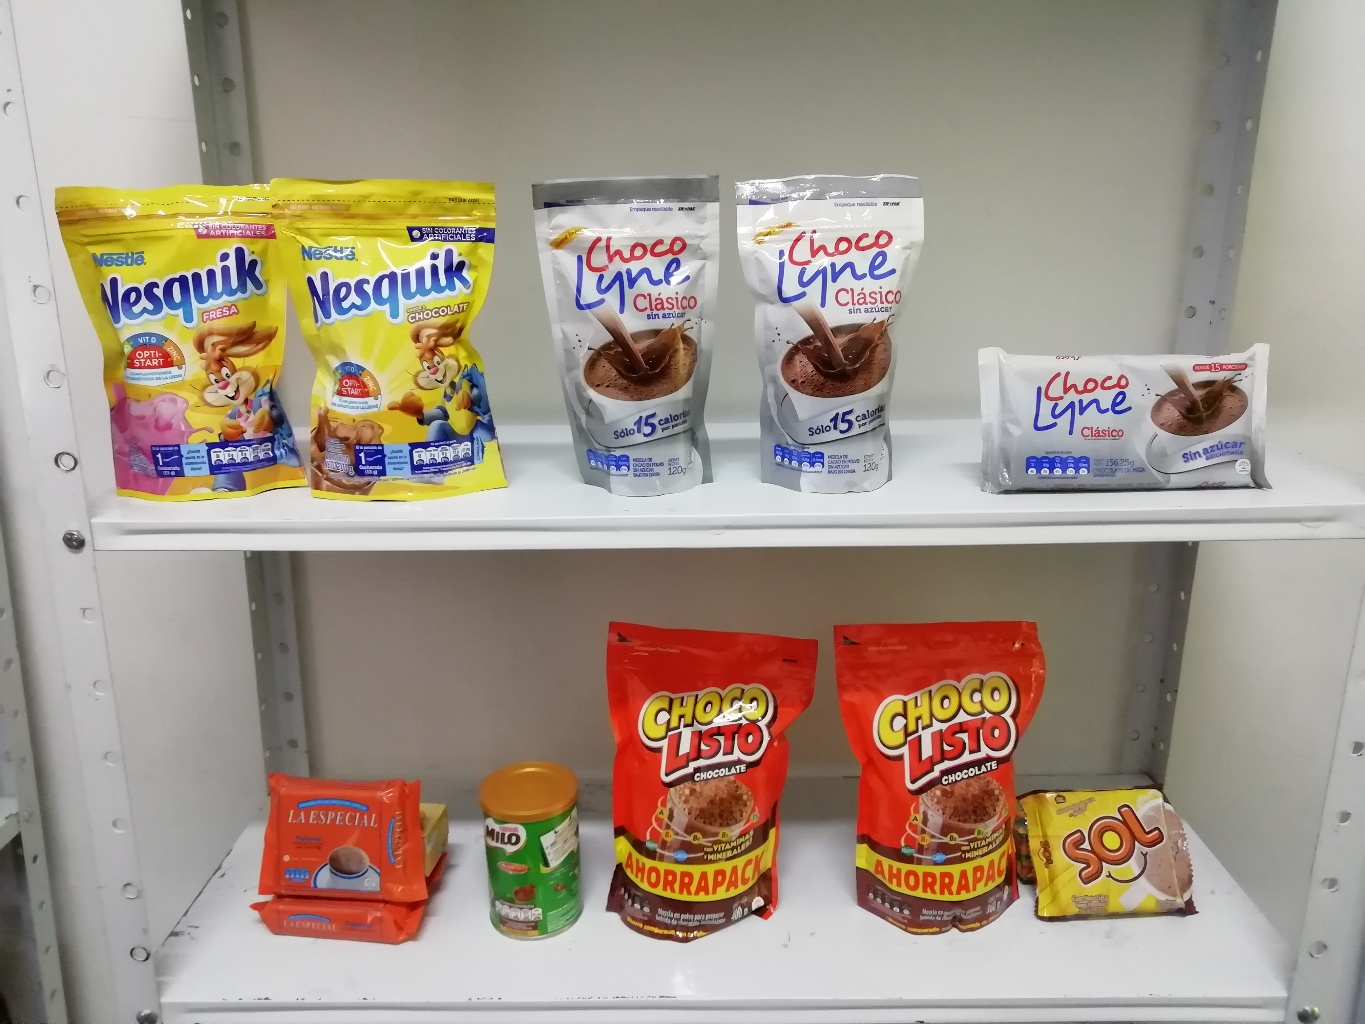COL0170103DYP36000: (831, 615, 1060, 948)
COL0170103DYP40000: (594, 613, 829, 950)
COL0170203LAT20000: (466, 753, 589, 945)
COL0170303DYP20000: (266, 169, 524, 500)
COL0170305DYP20000: (49, 176, 326, 509)
